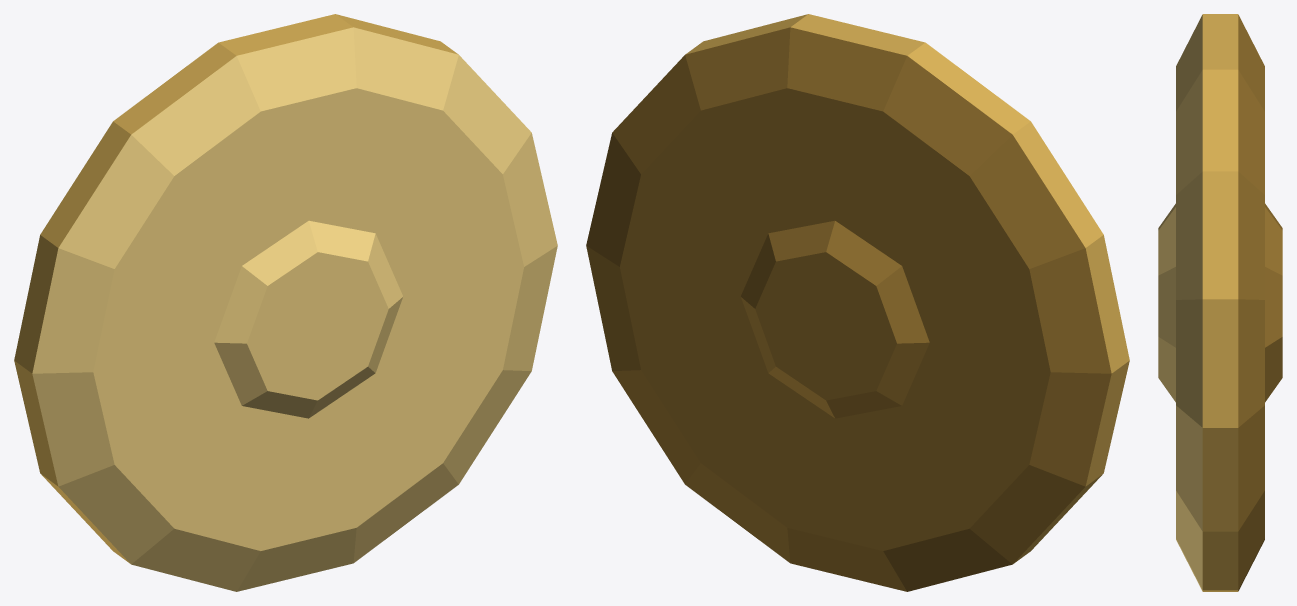
The model's file is coin.glb.
3 views of the same model, side by side, from view 1: azimuth 30°, elevation 25°; view 2: azimuth 150°, elevation 25°; view 3: azimuth 270°, elevation 25° (orthographic). The views are drawn at different scales.
Visible parts, largest first — view 1: Coin; view 2: Coin; view 3: Coin.
Part boxes in pixels (box(x1,y1,x2,y2)): Coin: box(14, 14, 557, 591); Coin: box(586, 14, 1129, 591); Coin: box(1158, 14, 1282, 591).
Bounding box in the file's own units: 0.2257 × 0.22 × 0.0474.
